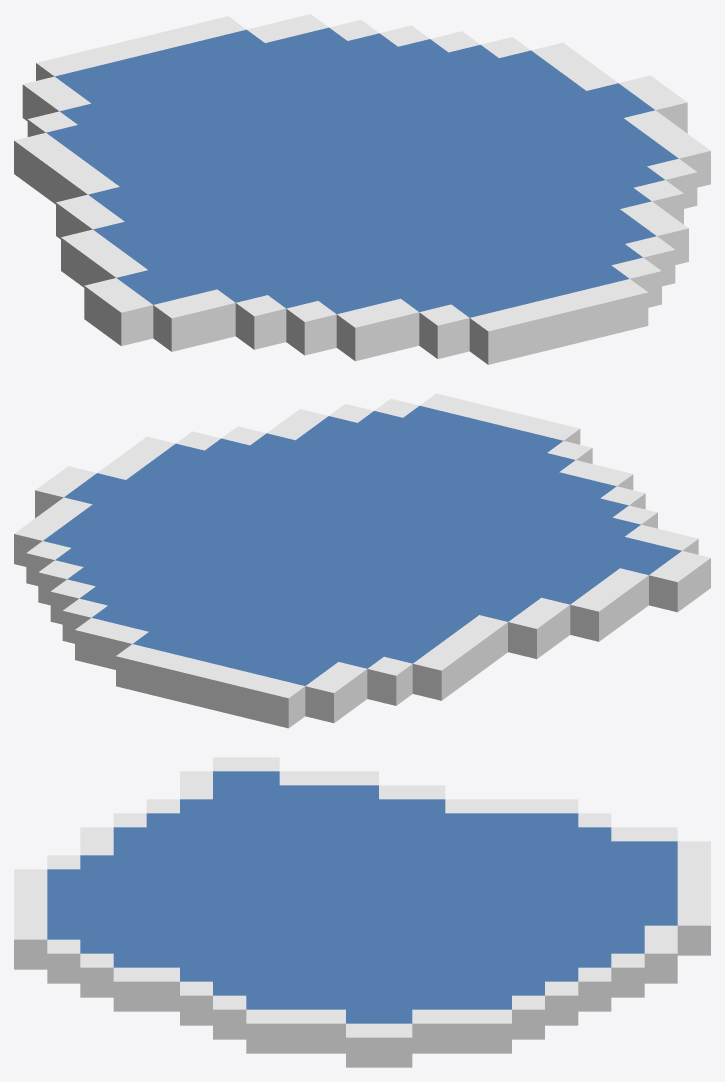
File: pond1.obj
3 views of the same model, one above another, from view 1: azimuth 30°, elevation 25°; view 2: azimuth 150°, elevation 25°; view 3: azimuth 270°, elevation 25° (orthographic). The views are drawn at different scales.
Bounding box in the file's own units: 20 × 1 × 21.
1 material, 1 textured.
